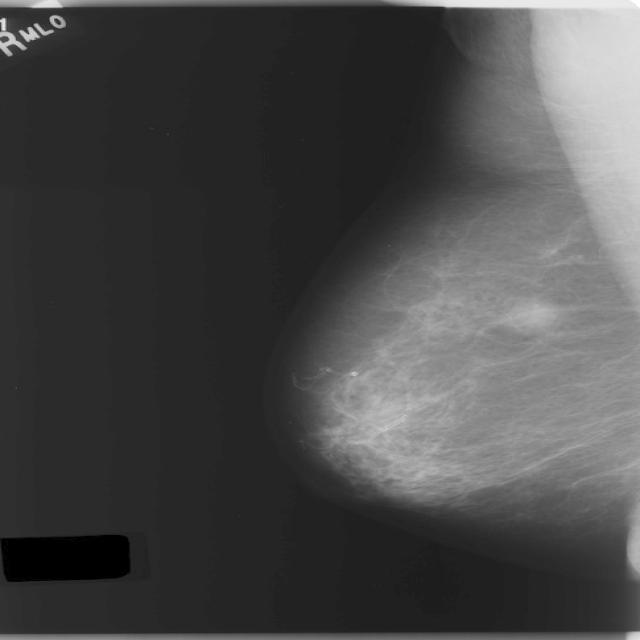tumour: (497, 300, 557, 331)
